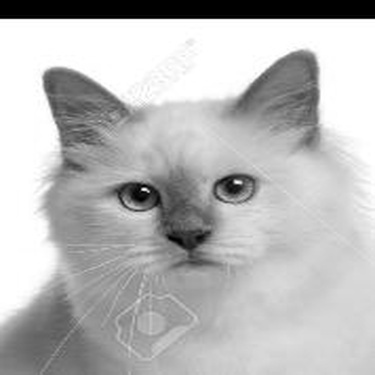cat: (6, 46, 327, 366)
